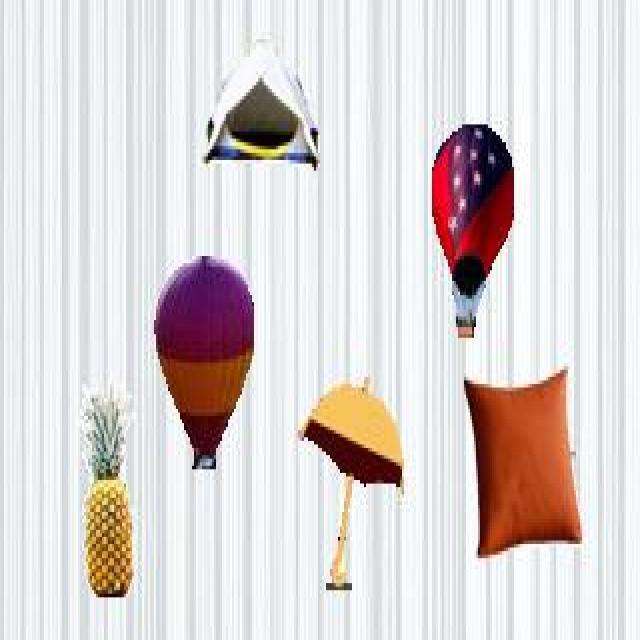Other Objects: (462, 362, 584, 558), (152, 249, 255, 472), (430, 120, 516, 337)
